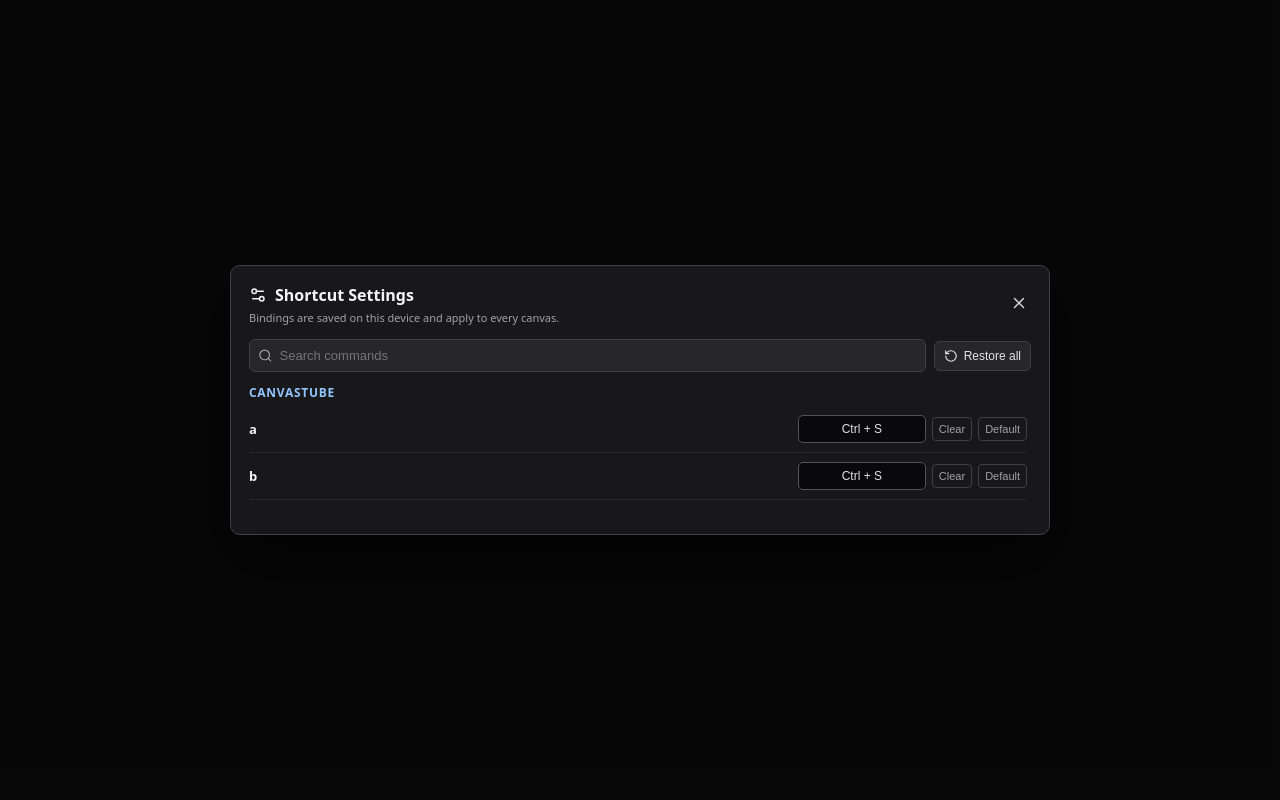
Scenario: stored shortcut and SVG boundaries › reports conflicting command bindings
Click the field named "a shortcut" at (862, 429), box left=798, top=415, right=926, bottom=443
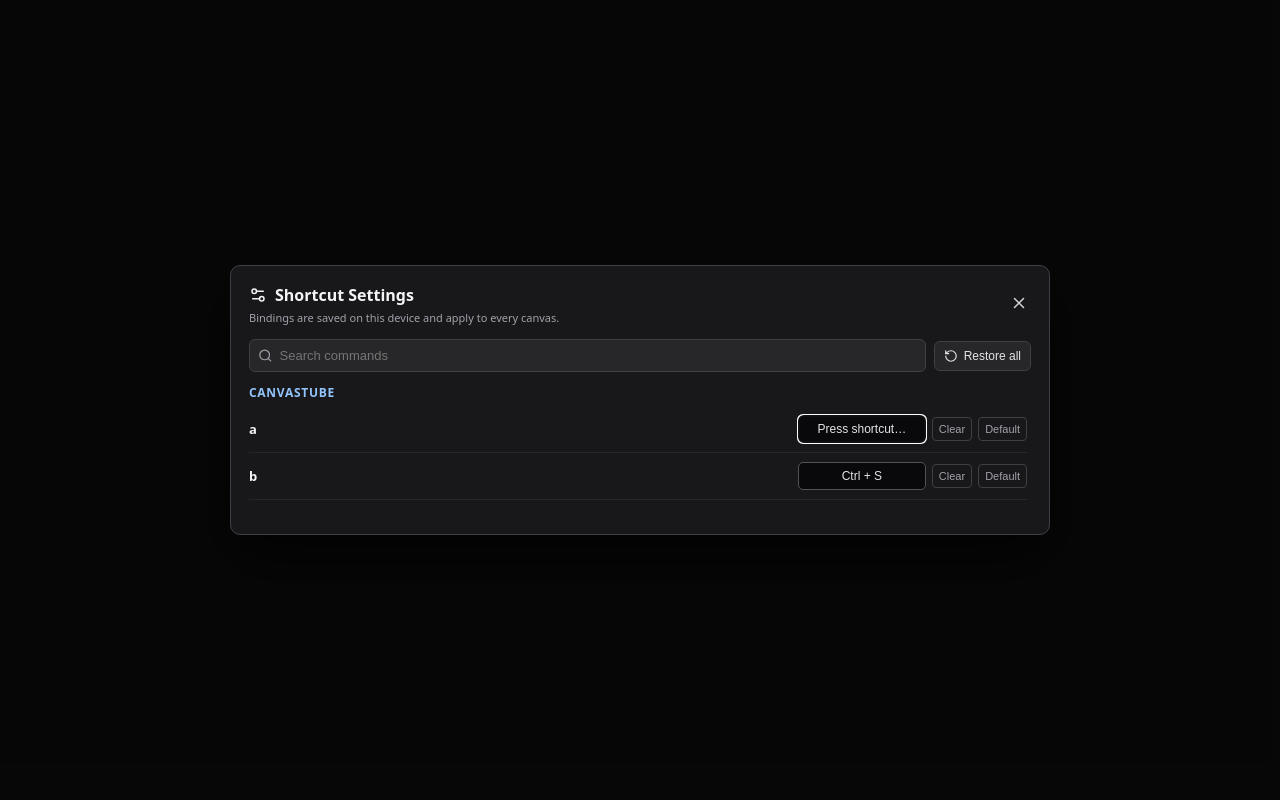
Type keys "{Control>}s{/Control}"
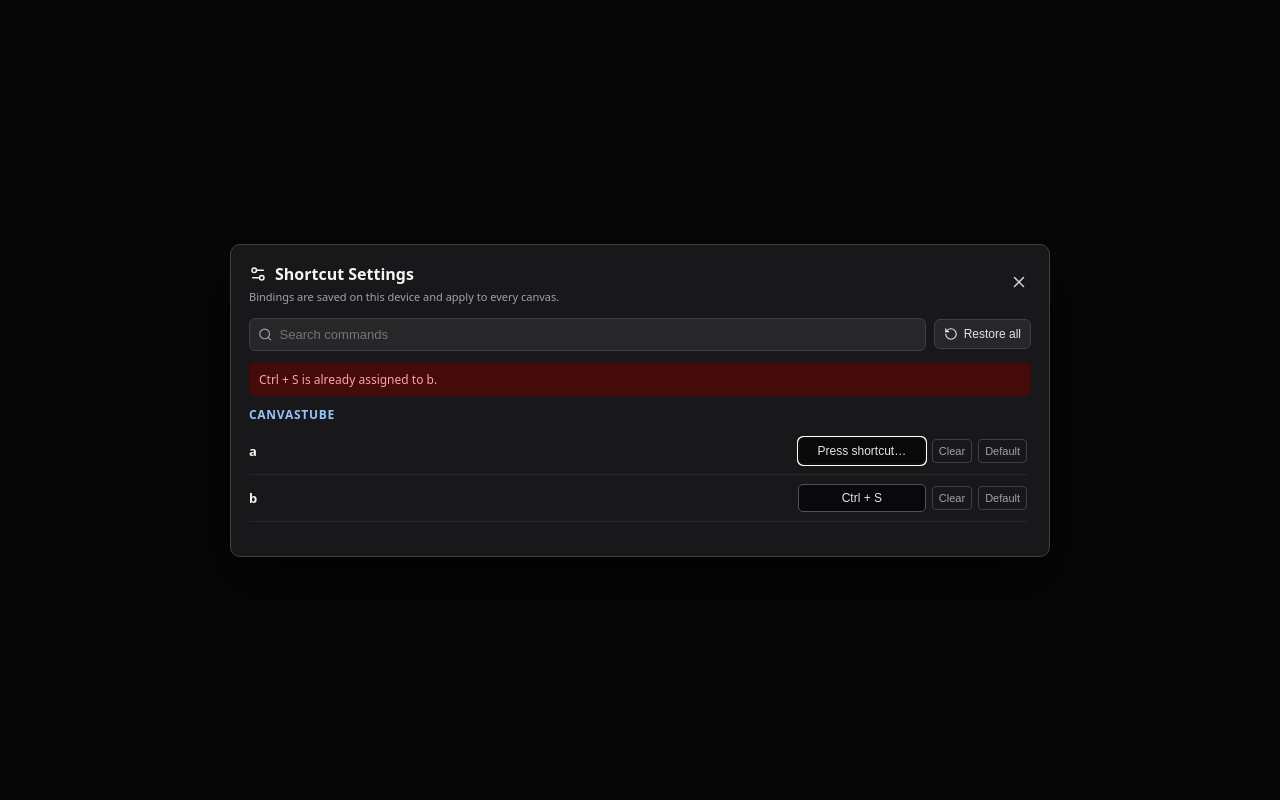
Now the message shows "already assigned to b", box left=259, top=370, right=437, bottom=388
